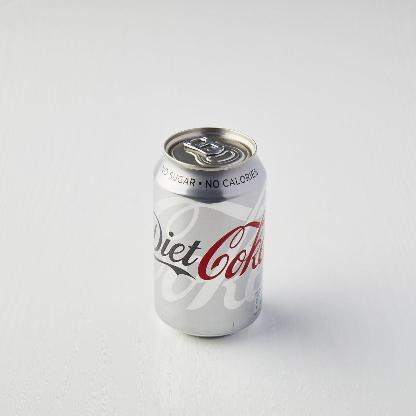Can: (152, 126, 268, 338)
